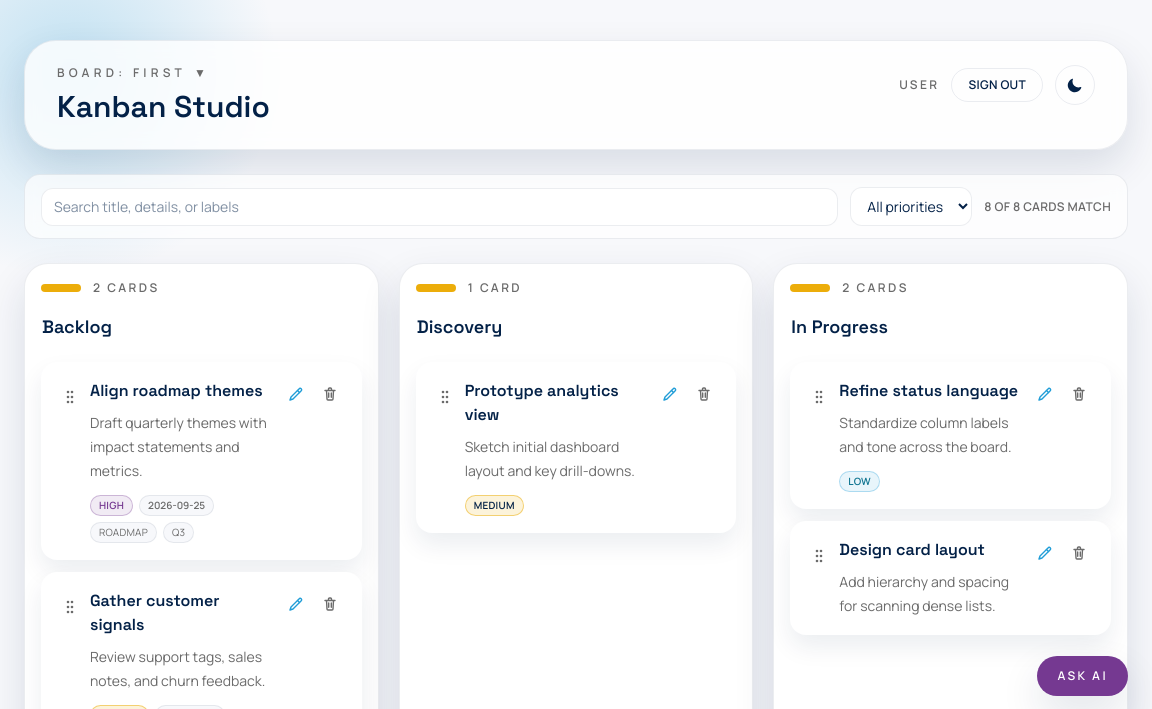
Test: Workspace › creates a board and switches to it
What coordinates should you click on to do the following:
click the button with test id "board-switcher"
I would click on:
 (134, 73)
Its box is [57,65,210,81].
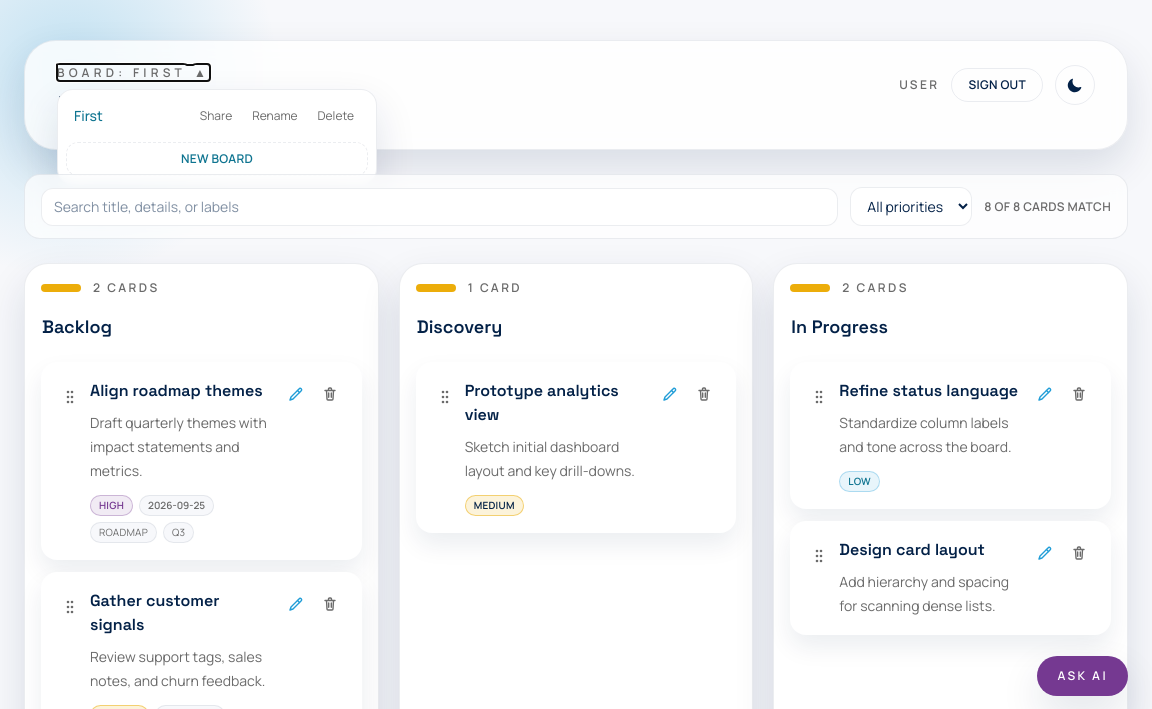
What coordinates should you click on to do the following:
click the button with test id "board-create"
I would click on:
 (217, 159)
Its box is [66,142,368,176].
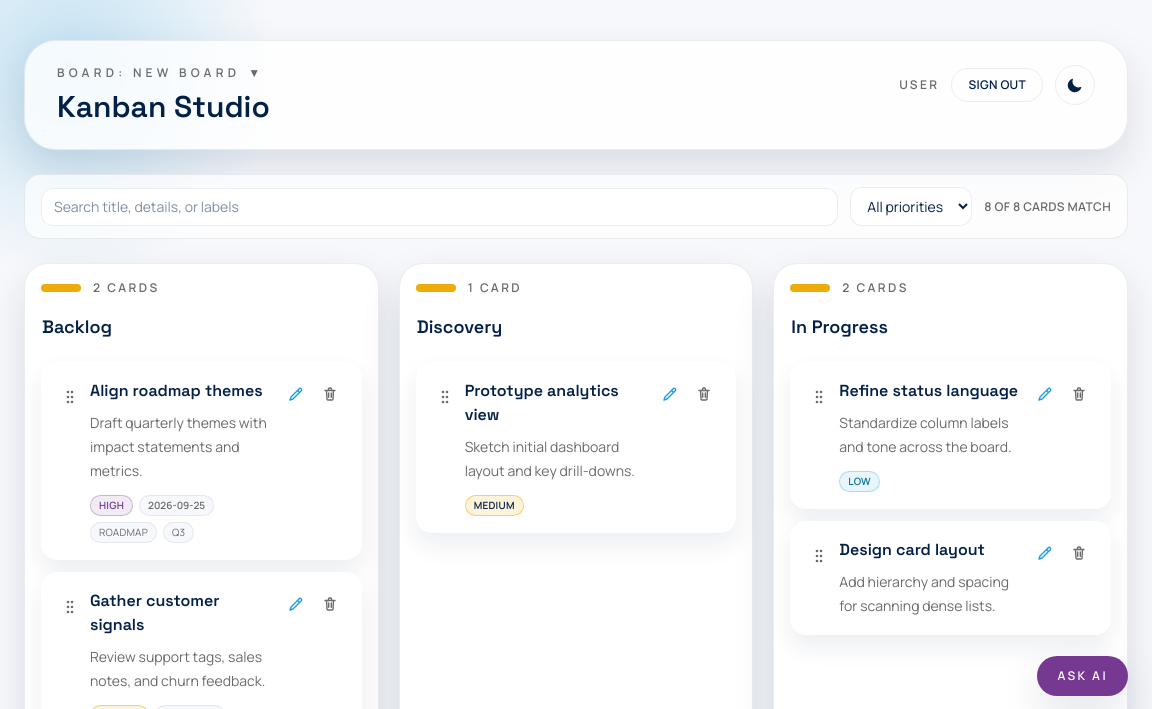
Expected: the button with test id "board-switcher" shows "New board", [57,65,264,81]
